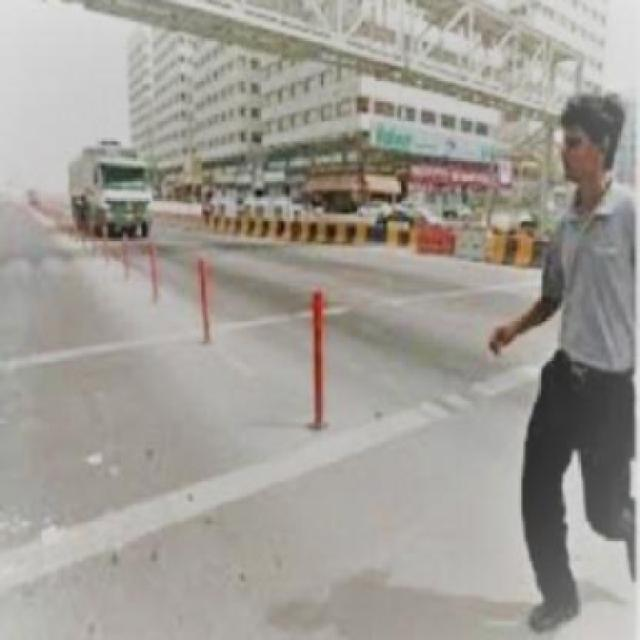Person: (482, 92, 640, 633)
